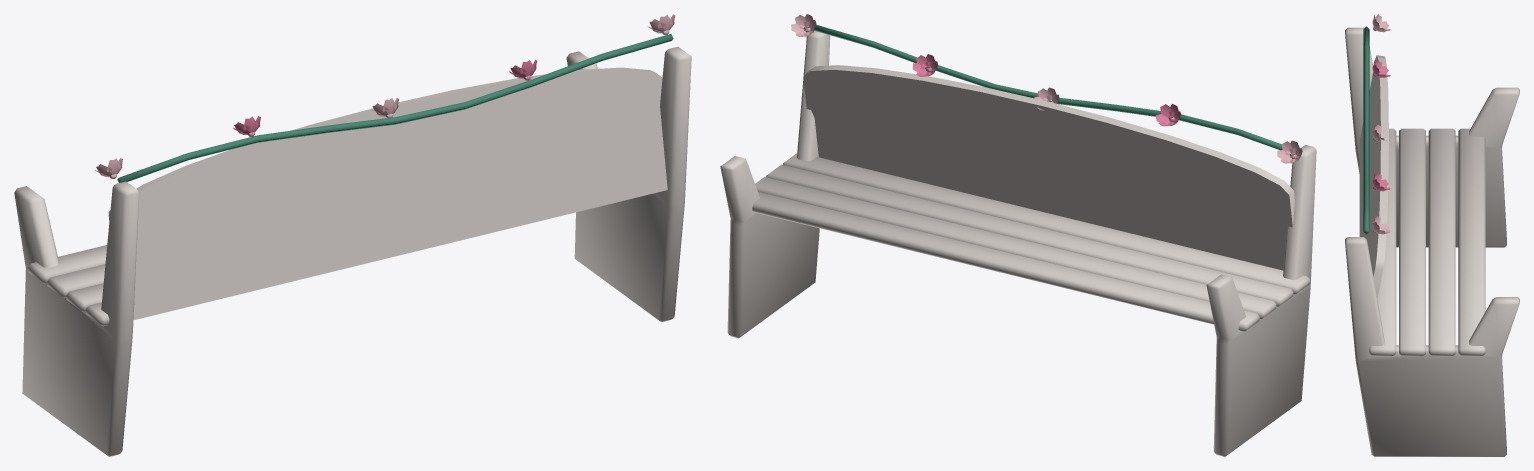
Rendered from garden_bench.glb.
3 views of the same model, side by side, from view 1: azimuth 30°, elevation 25°; view 2: azimuth 150°, elevation 25°; view 3: azimuth 270°, elevation 25° (orthographic). The views are drawn at different scales.
Parts seen in each view (by area): view 1: garden_bench; view 2: garden_bench; view 3: garden_bench.
Boxes of the visible parts, left/top/right/bottom form: garden_bench: left=14, top=14, right=691, bottom=456; garden_bench: left=720, top=14, right=1316, bottom=456; garden_bench: left=1345, top=14, right=1519, bottom=456.
Size of what is drawn, in the model's own units: 1.8 by 0.9 by 0.6.
